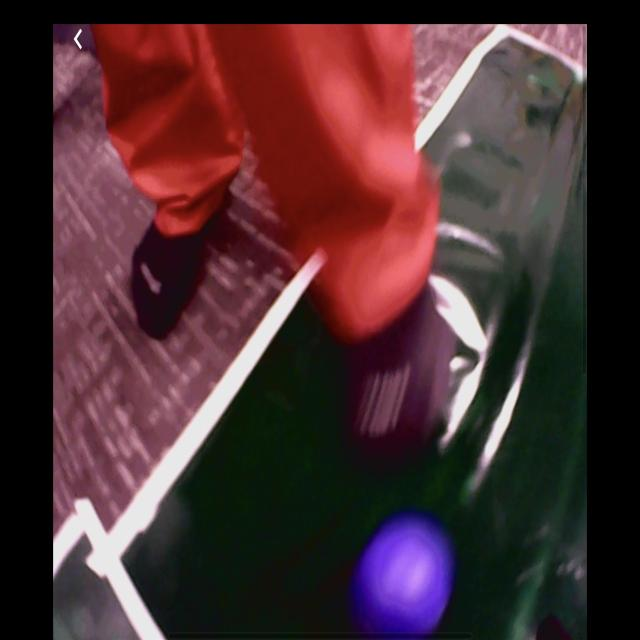ball: (358, 516, 446, 628)
